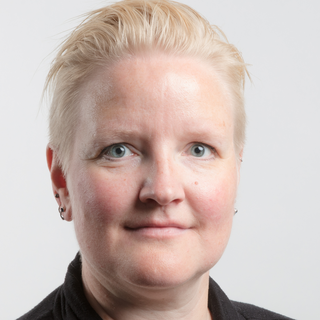eye: (87, 138, 145, 163), (177, 138, 221, 162)
